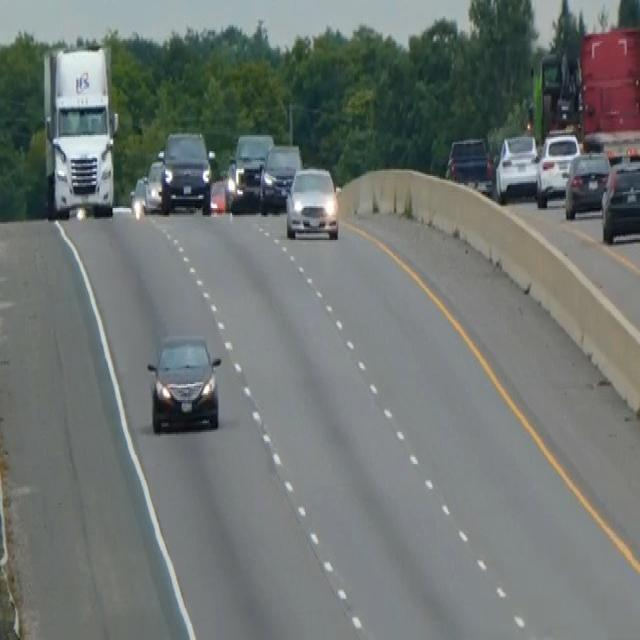car: (145, 332, 222, 434), (284, 164, 339, 240), (226, 130, 274, 210), (600, 156, 639, 244), (535, 130, 580, 206), (564, 148, 611, 218), (493, 131, 539, 201), (259, 140, 302, 213), (445, 133, 493, 194), (144, 156, 165, 212), (128, 174, 148, 219)
jeep: (158, 128, 213, 215)
lorry: (40, 42, 120, 220)
